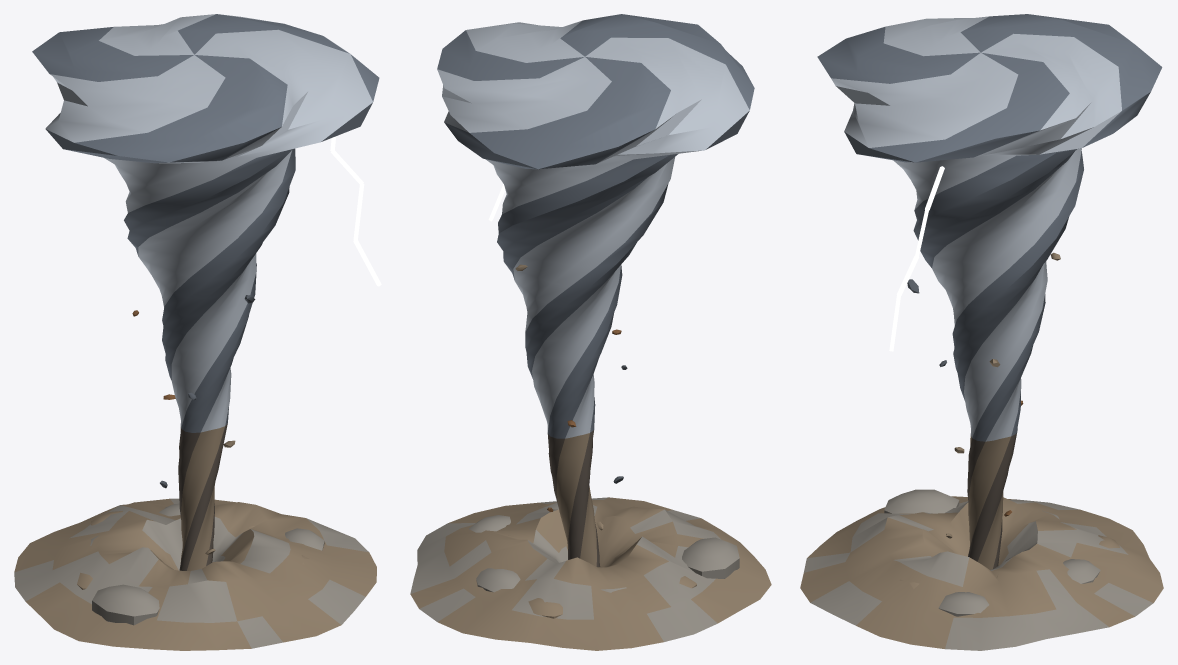
The model's file is tornado.glb.
3 views of the same model, side by side, from view 1: azimuth 30°, elevation 25°; view 2: azimuth 150°, elevation 25°; view 3: azimuth 270°, elevation 25° (orthographic).
Visible parts, largest first — view 1: funnel, body; view 2: funnel, body; view 3: funnel, body.
Part boxes in pixels (x1,y1,x2,y2): funnel: (32, 14, 381, 570); body: (14, 498, 376, 650); funnel: (437, 14, 754, 566); body: (410, 497, 771, 650); funnel: (817, 14, 1162, 569); body: (800, 489, 1163, 650).
Bounding box in the file's own units: 287 × 449 × 284.
